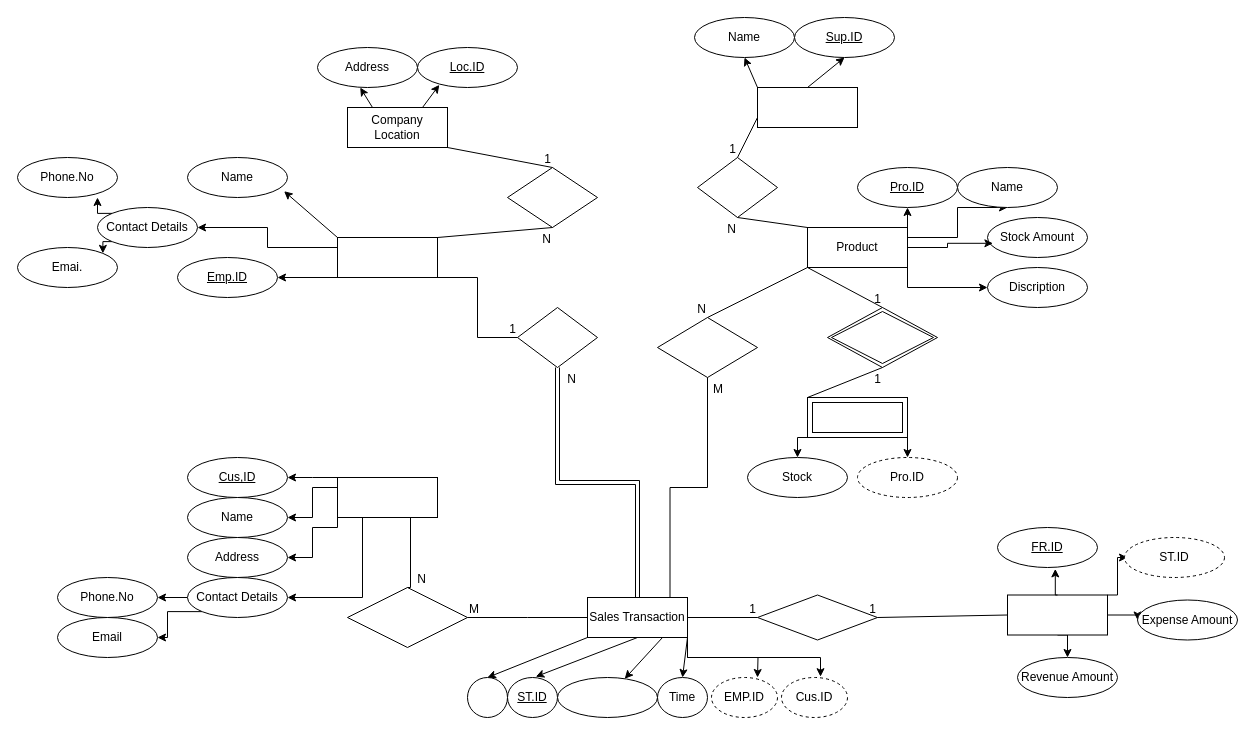
The diagram is 1255 pixels wide and 735 high, and some of its shapes have lost their labels. The box of each missing label's shape, as (x1, y1, x2, y2) in pixels:
Customer: (336, 476, 438, 518)
Date: (466, 676, 508, 718)
Employee: (336, 236, 438, 278)
Financial Record: (1006, 594, 1108, 635)
Inventory: (806, 396, 908, 438)
Manages: (516, 306, 598, 368)
purchased: (656, 316, 758, 378)
Record It By: (756, 594, 878, 640)
Store in: (826, 306, 938, 368)
Supplier: (756, 86, 858, 128)
Supplies: (696, 156, 778, 218)
Total Amount: (556, 676, 658, 718)
Watch: (346, 586, 468, 648)
Work Location: (506, 166, 598, 228)
